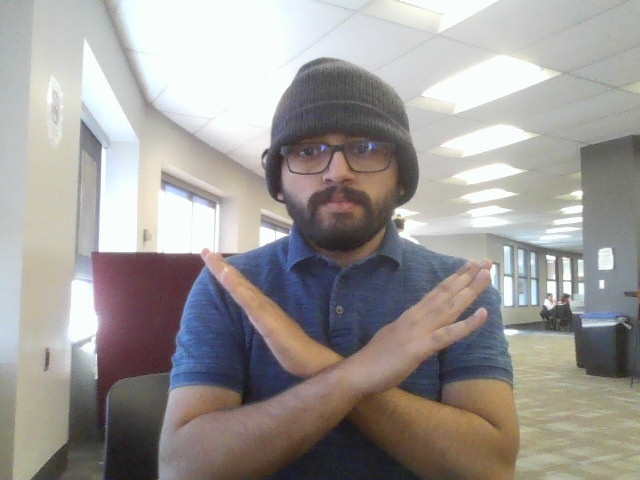start: (190, 233, 511, 447)
